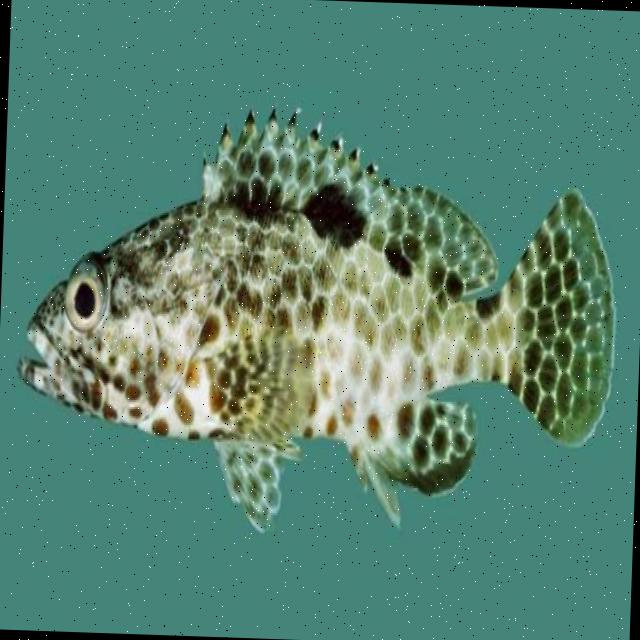ikan: (10, 94, 622, 546)
